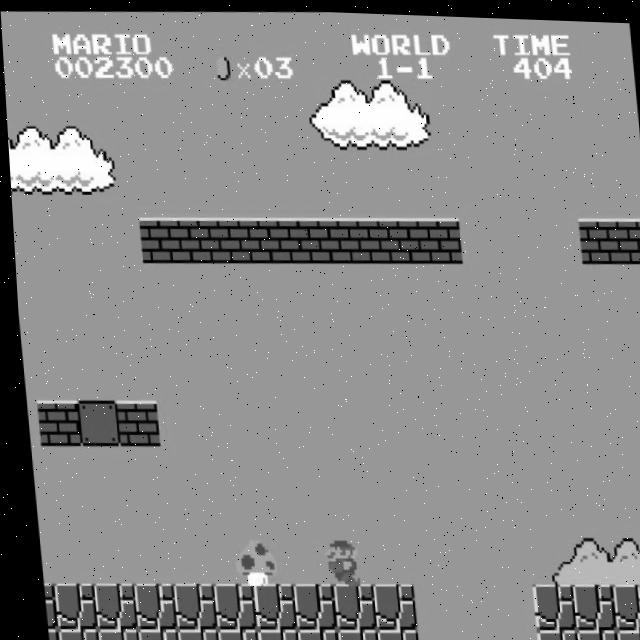1- brick_block: (110, 398, 156, 446), (414, 213, 460, 261), (31, 398, 76, 447), (215, 214, 260, 262), (295, 214, 340, 262), (574, 212, 619, 260), (135, 215, 180, 262), (175, 215, 220, 262), (255, 215, 300, 262), (335, 214, 380, 261), (375, 214, 420, 261), (615, 213, 640, 260)
11- little_mario: (308, 534, 356, 585)
12- mushroom: (224, 534, 271, 586)
17- undestructible_block: (245, 580, 290, 629), (524, 578, 569, 627), (46, 582, 91, 630), (85, 581, 130, 629), (125, 581, 170, 629), (165, 581, 210, 629), (205, 581, 250, 629), (285, 580, 330, 628), (325, 580, 370, 628), (365, 580, 410, 628), (564, 579, 609, 627), (604, 578, 640, 627), (528, 624, 571, 640), (568, 624, 611, 640), (36, 582, 50, 629), (249, 625, 292, 640), (329, 625, 372, 640), (368, 625, 411, 640), (129, 626, 172, 640), (169, 626, 212, 640), (209, 626, 252, 640), (289, 626, 332, 640), (49, 627, 92, 640), (89, 627, 132, 640), (608, 624, 640, 640), (39, 628, 51, 640)
3- empty_block: (70, 398, 116, 446)
